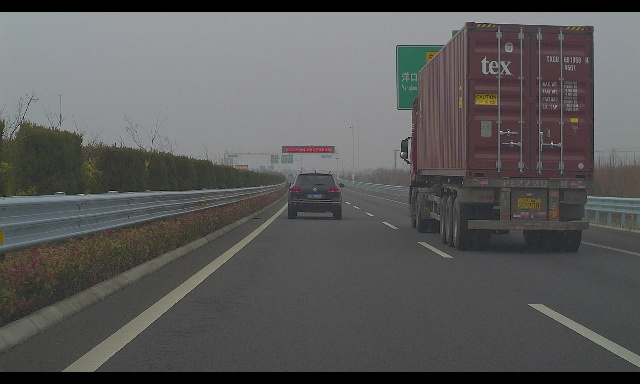car: (285, 170, 344, 220)
truck: (400, 22, 594, 252)
